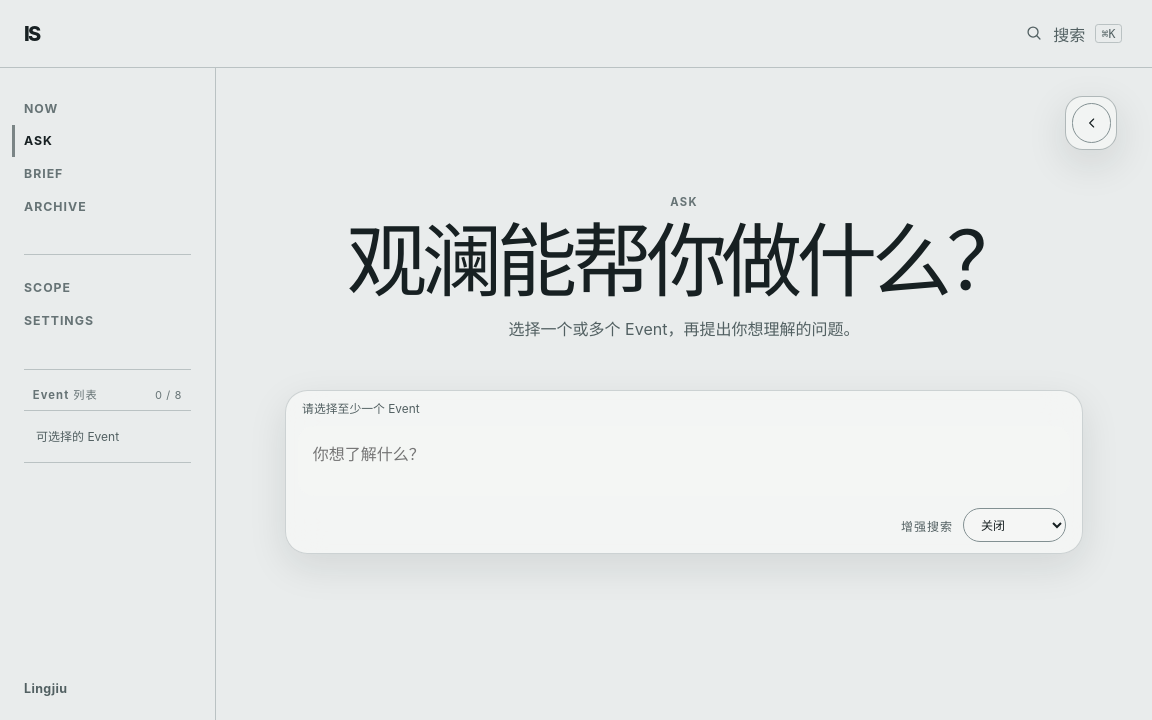
Test case: App › renders the Ask Event picker inside the sidebar below navigation
Expected: the heading "观澜能帮你做什么？" is shown, [347,218,1021,307]
Expected: the element named "Primary navigation" shows "0 / 8", [0,68,216,719]
Click the checkbox named "选择 可选择的 Event": (108, 437) [24,411,191,463]
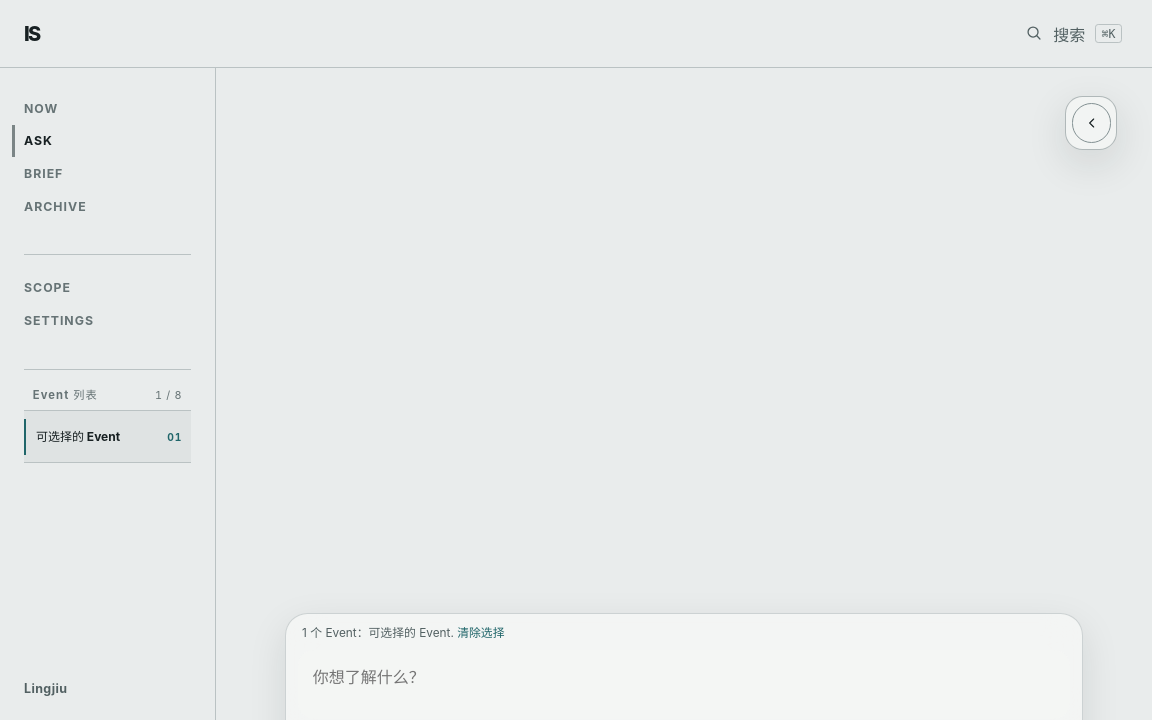
Expected: the checkbox named "选择 可选择的 Event" is checked, [24,411,191,463]
Expected: the checkbox named "选择 可选择的 Event" shows "01", [167,431,182,443]
Expected: the element named "Primary navigation" shows "1 / 8", [0,68,216,719]
